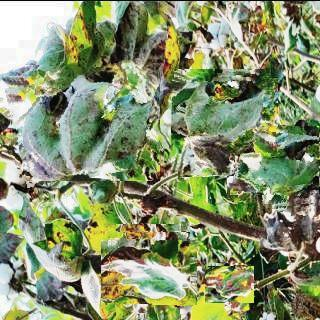blight: (107, 231, 190, 312), (208, 262, 251, 305)
leaf spot: (9, 63, 160, 180), (172, 69, 277, 175), (233, 125, 319, 211)
